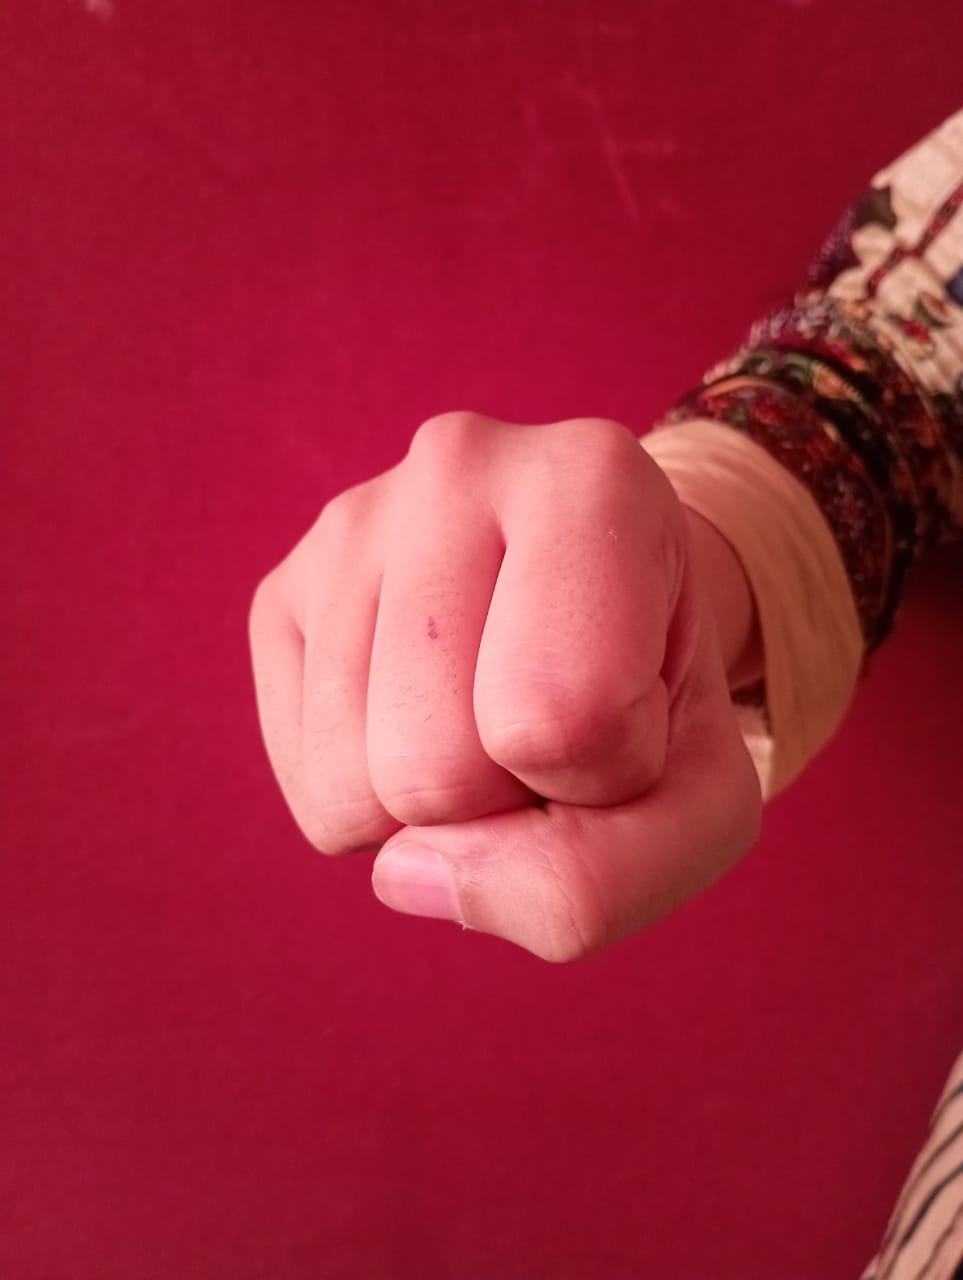BroCode: (213, 402, 780, 972)
